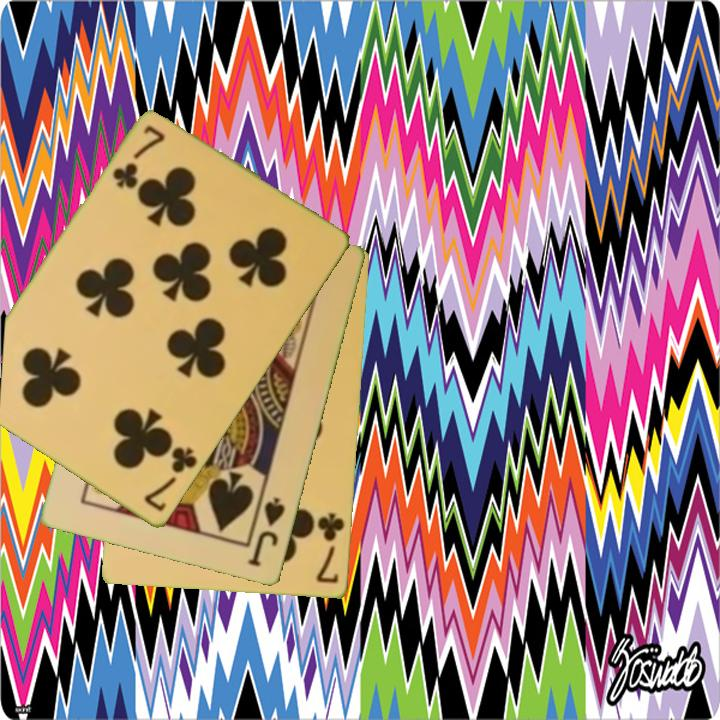7c: (140, 443, 201, 516), (109, 122, 168, 193), (313, 510, 348, 587)
Js: (244, 494, 289, 570)
